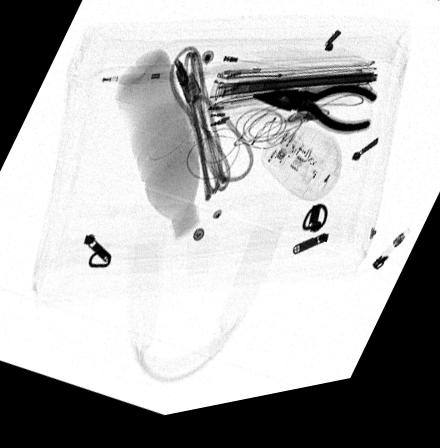Pliers: (249, 96, 377, 146)
